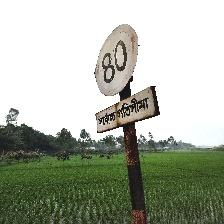Speed-limit: (93, 22, 159, 134)
